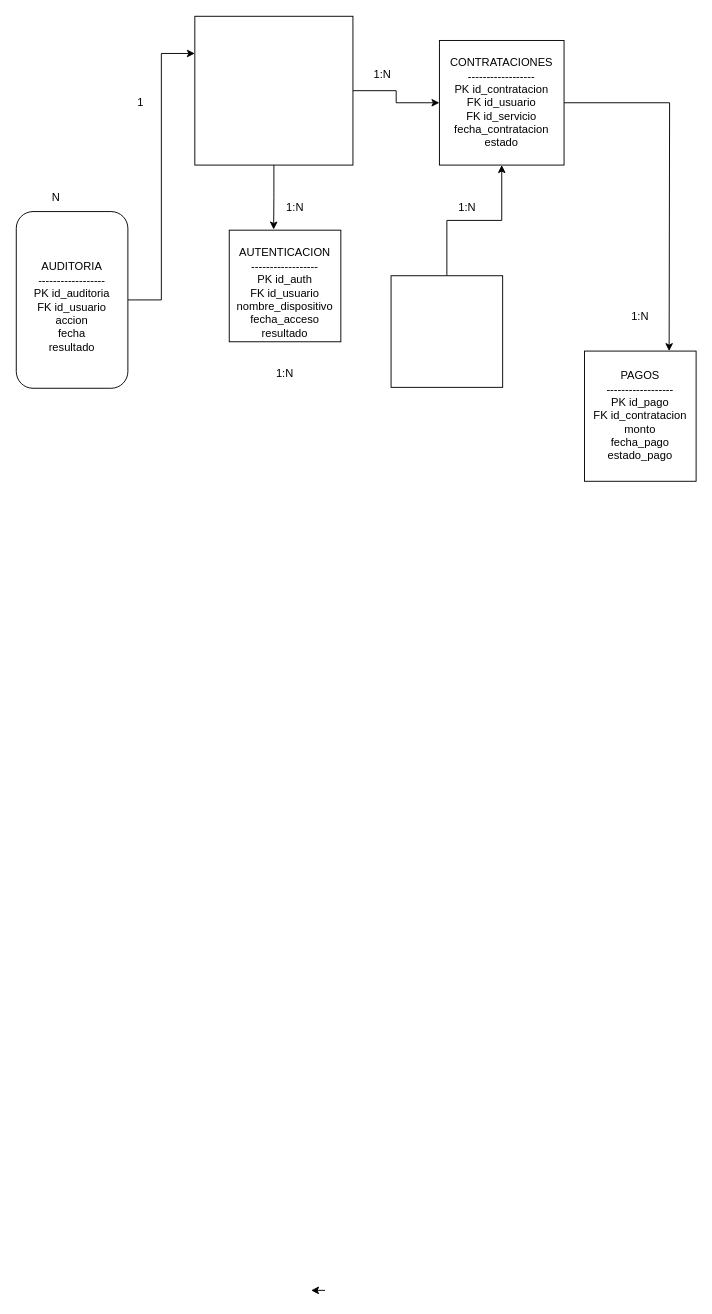
Image size: 712x1314. Some labels were removed from this diagram. Here are the shapes that lost their labels. From the top down, the centre of each, then its label:
the point at 273,90: USUARIOS ------------- PK id_usuario nombre apellido correo estado
the point at 446,331: SERVICIOS ------------------ PK id_servicio nombre descripcion precio activo
